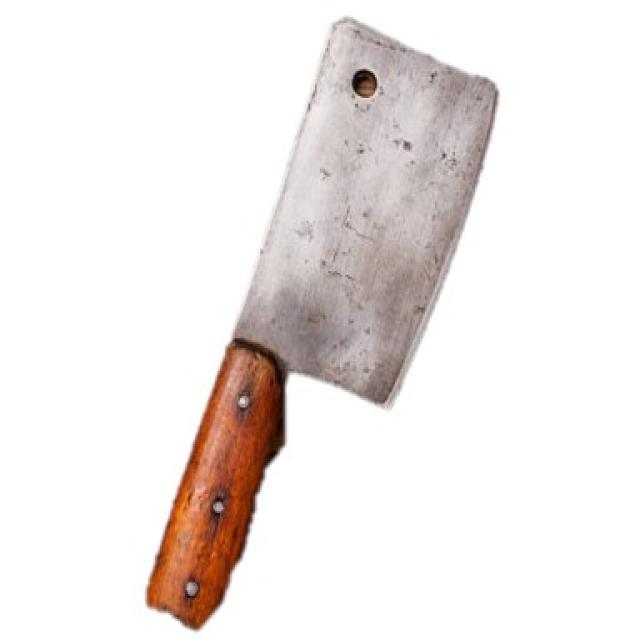knife: (142, 12, 504, 636)
